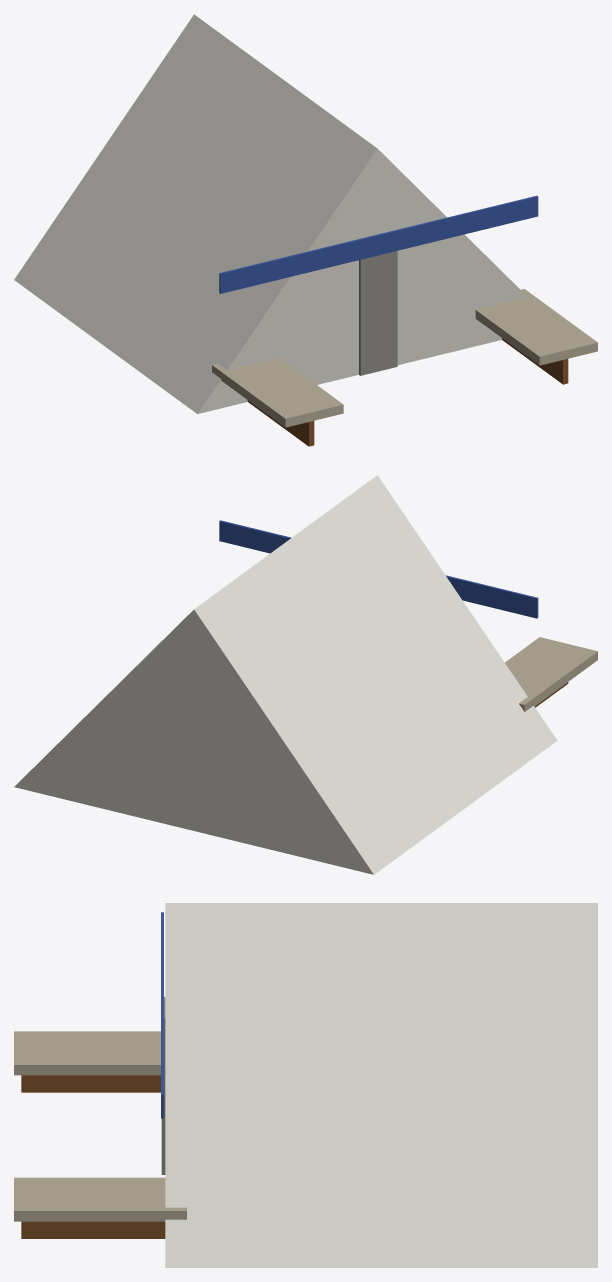
Rendered from szpital.glb.
The picture shows the model from 3 angles, top to bottom: view 1: azimuth 30°, elevation 25°; view 2: azimuth 150°, elevation 25°; view 3: azimuth 270°, elevation 25°; orthographic projection. The views are drawn at different scales.
Visible parts, largest first — view 1: szpital; view 2: szpital; view 3: szpital.
Part boxes in pixels (x1,y1,x2,y2): szpital: [14, 14, 597, 446]; szpital: [14, 475, 597, 874]; szpital: [14, 903, 597, 1267].
Size of the model in its own units: 3.4 by 2 by 4.05.
